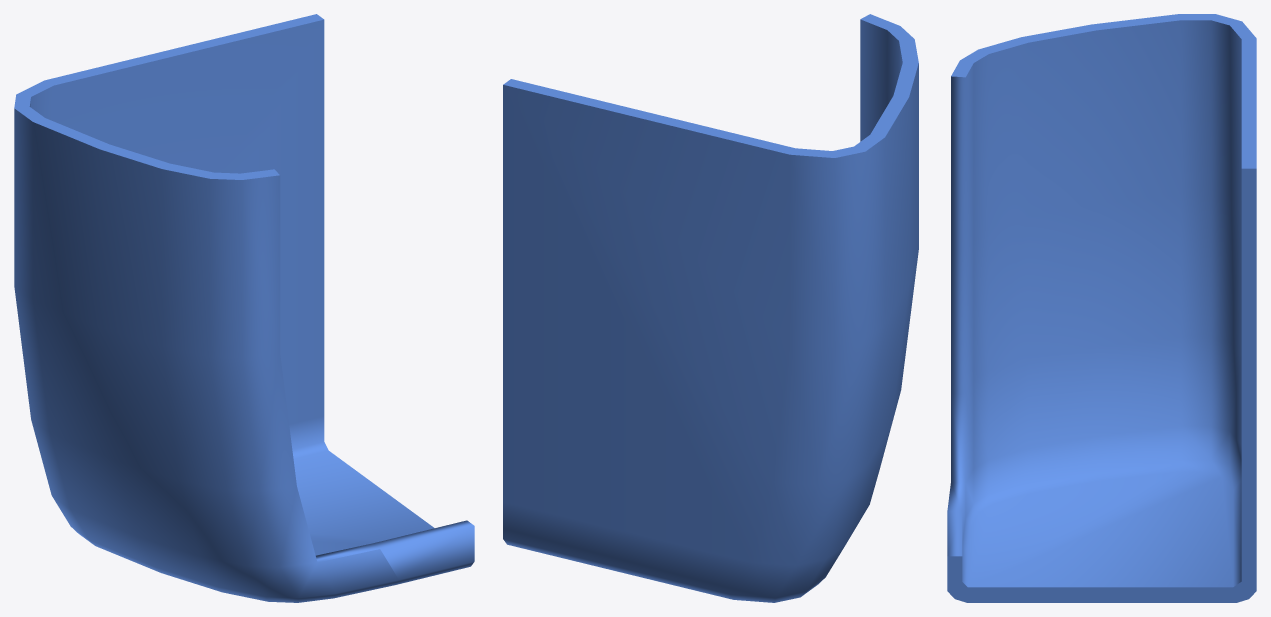
Rendered from original-6.obj.
3 renders of one model, left to right at view 1: azimuth 30°, elevation 25°; view 2: azimuth 150°, elevation 25°; view 3: azimuth 270°, elevation 25°, orthographic. The views are drawn at different scales.
Visible parts, largest first — view 1: Tank1/Tank/mesh17/mesh17-geometry#mesh17-geometry; view 2: Tank1/Tank/mesh17/mesh17-geometry#mesh17-geometry; view 3: Tank1/Tank/mesh17/mesh17-geometry#mesh17-geometry.
Part boxes in pixels (left/top/right/bottom): Tank1/Tank/mesh17/mesh17-geometry#mesh17-geometry: left=14, top=14, right=474, bottom=602; Tank1/Tank/mesh17/mesh17-geometry#mesh17-geometry: left=503, top=14, right=918, bottom=602; Tank1/Tank/mesh17/mesh17-geometry#mesh17-geometry: left=947, top=14, right=1256, bottom=602.
Size of the model in its own units: 0.4256 by 0.5581 by 0.36.
